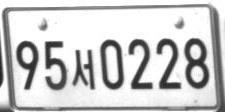0: (99, 38, 125, 89)
2: (155, 37, 181, 90), (127, 38, 153, 89)
5: (44, 41, 67, 91)
8: (183, 37, 210, 89)
9: (15, 39, 39, 89)
서: (72, 48, 95, 90)
